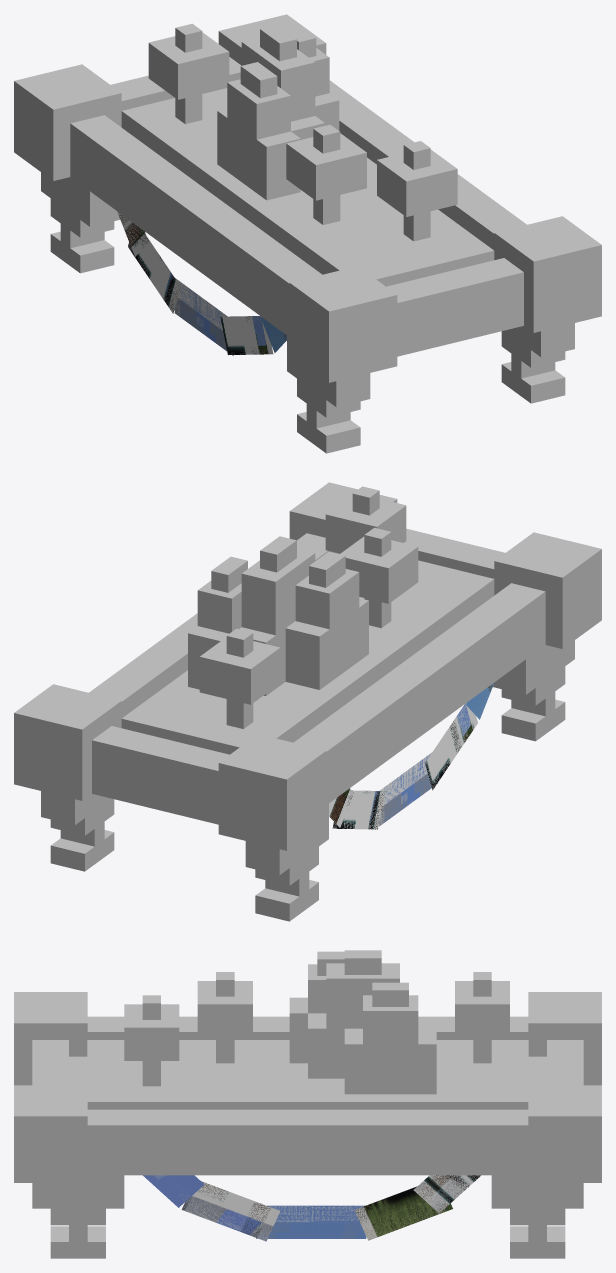
File: LevelSelectBlock.obj
3 views of the same model, one above another, from view 1: azimuth 30°, elevation 25°; view 2: azimuth 150°, elevation 25°; view 3: azimuth 270°, elevation 25° (orthographic). The views are drawn at different scales.
Parts seen in each view (by area): view 1: cube, Grass, Leaves, TreeTrunk; view 2: cube, Grass, Leaves, TreeTrunk; view 3: cube, Grass, Leaves, TreeTrunk, Base.
Boxes of the visible parts, bbox=[...] form: cube: bbox=[14, 14, 601, 453]; Grass: bbox=[121, 88, 494, 286]; Leaves: bbox=[148, 23, 457, 216]; TreeTrunk: bbox=[175, 94, 430, 241]; cube: bbox=[14, 482, 601, 921]; Grass: bbox=[121, 560, 494, 754]; Leaves: bbox=[199, 486, 418, 704]; TreeTrunk: bbox=[226, 598, 391, 728]; cube: bbox=[14, 950, 601, 1258]; Grass: bbox=[87, 1040, 528, 1109]; Leaves: bbox=[124, 972, 509, 1060]; TreeTrunk: bbox=[142, 1037, 491, 1086]; Base: bbox=[69, 1056, 546, 1085].
Bounding box in the file's own units: 1 × 0.9375 × 2.
